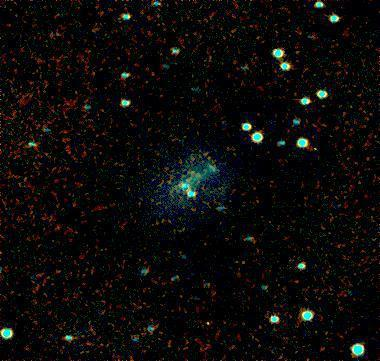star: (193, 308, 223, 338)
